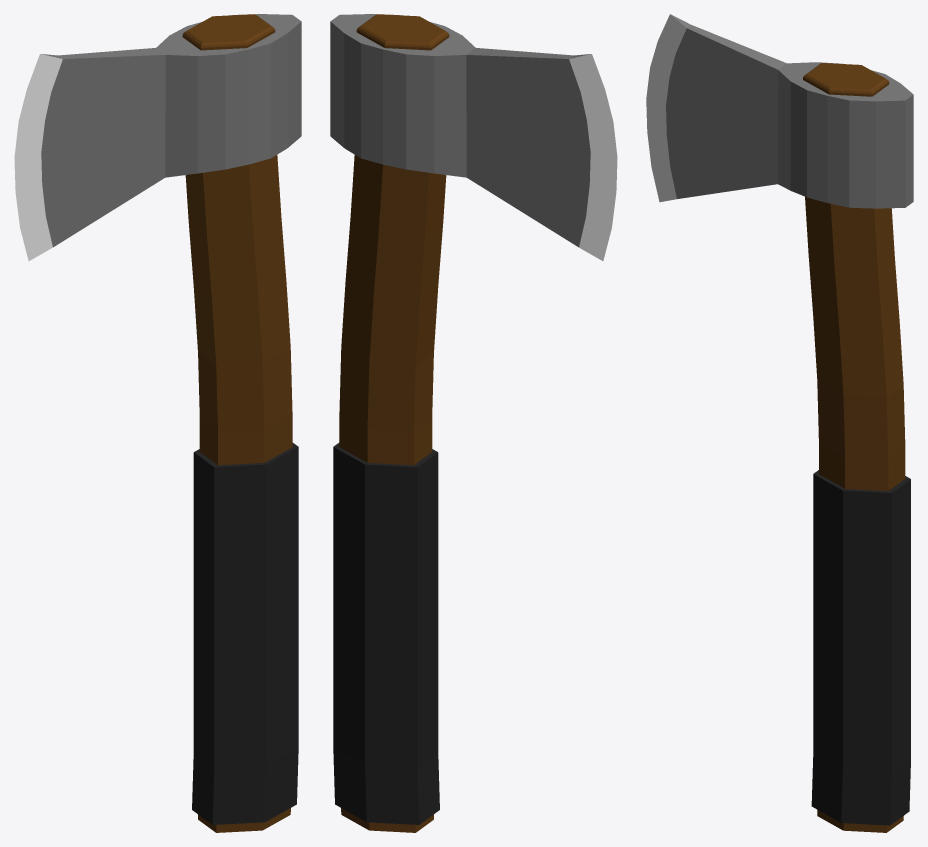
The model's file is simple_axe_1(1).fbx.
The picture shows the model from 3 angles, left to right: view 1: azimuth 30°, elevation 25°; view 2: azimuth 150°, elevation 25°; view 3: azimuth 330°, elevation 25°; orthographic projection. The views are drawn at different scales.
Parts seen in each view (by area): view 1: Cylinder, Cube; view 2: Cylinder, Cube; view 3: Cylinder, Cube.
Part boxes in pixels (x1,y1,x2,y2): Cylinder: (182, 14, 298, 832); Cube: (14, 14, 301, 260); Cylinder: (333, 14, 449, 832); Cube: (330, 14, 617, 260); Cylinder: (803, 63, 910, 832); Cube: (646, 14, 913, 208).
Bounding box in the file's own units: 657 × 1807 × 167.
